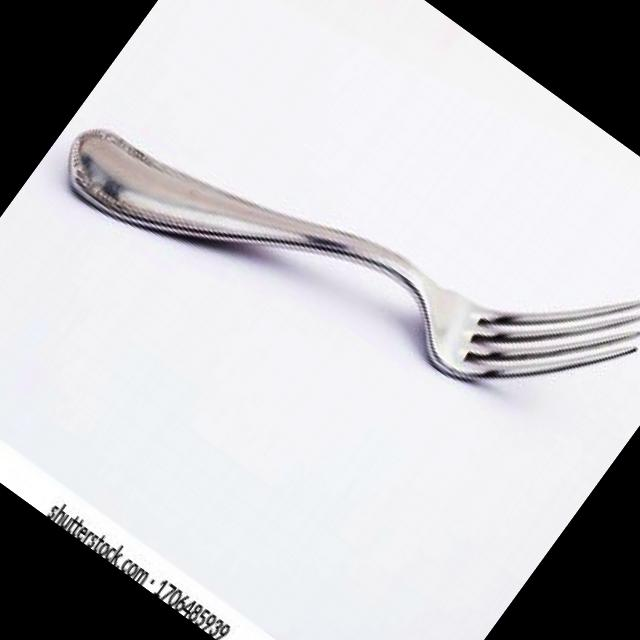fork: (46, 0, 640, 517)
